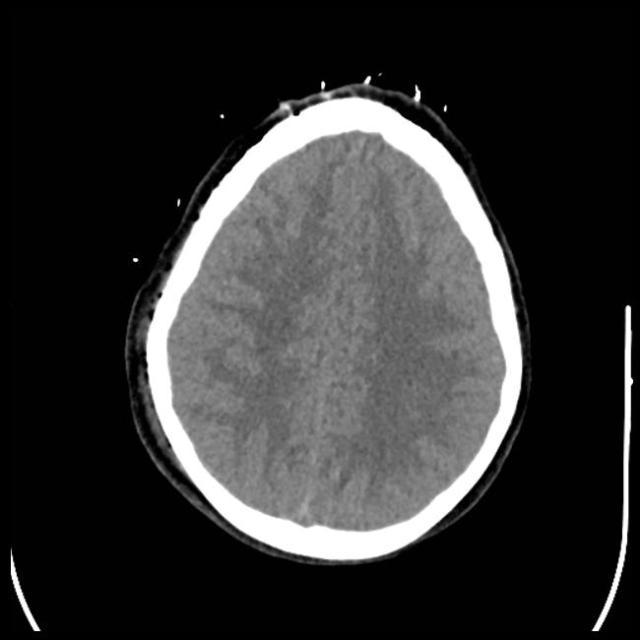lesion: (123, 79, 535, 566)
